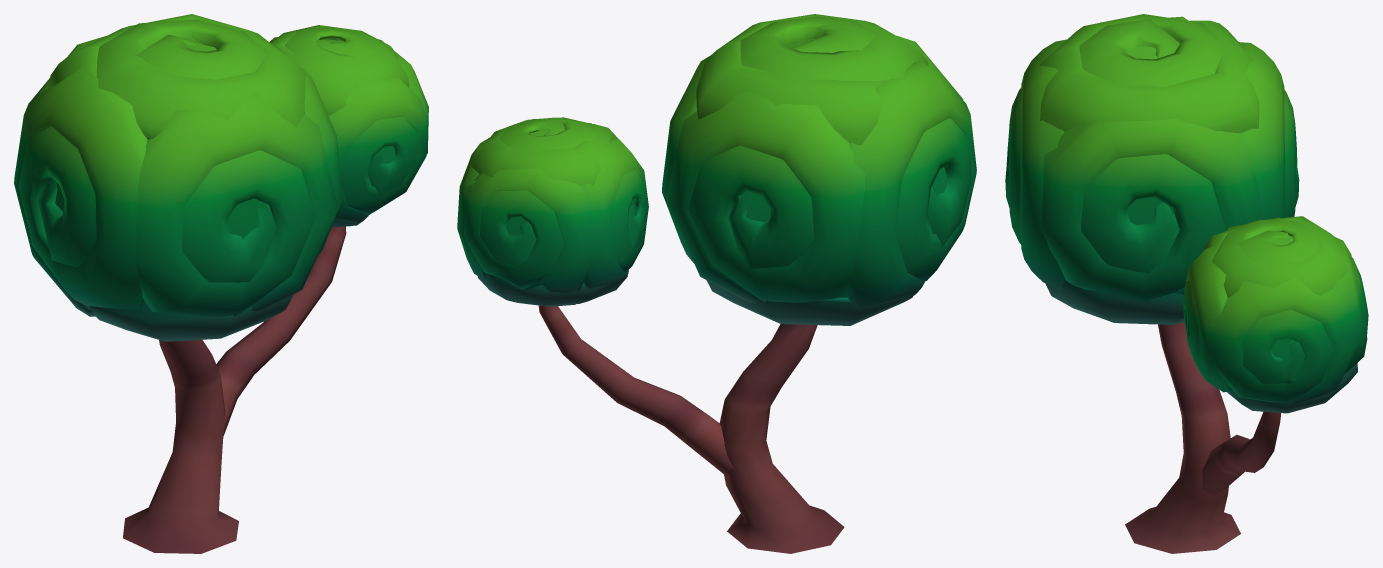
Rendered from arboles3.fbx.
3 renders of one model, left to right at view 1: azimuth 30°, elevation 25°; view 2: azimuth 150°, elevation 25°; view 3: azimuth 270°, elevation 25°, orthographic. The views are drawn at different scales.
Visible parts, largest first — view 1: Tree.023_Base_Material_0.001; view 2: Tree.023_Base_Material_0.001; view 3: Tree.023_Base_Material_0.001.
Boxes of the visible parts, x1=… form: Tree.023_Base_Material_0.001: x1=14, y1=14, x2=428, y2=553; Tree.023_Base_Material_0.001: x1=457, y1=14, x2=976, y2=553; Tree.023_Base_Material_0.001: x1=1005, y1=14, x2=1368, y2=553.
Bounding box in the file's own units: 711 × 801 × 542.
